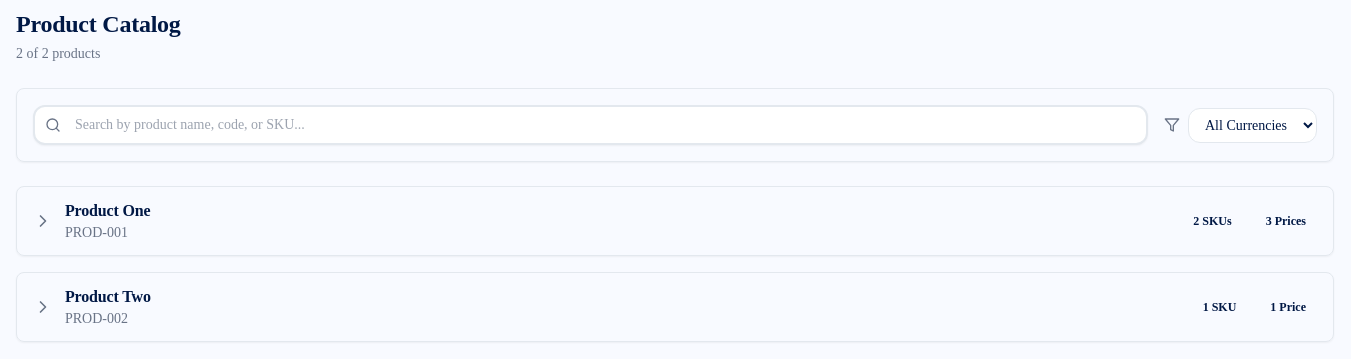
it: ProjectCatalog › should filter products by search query
Expected: the heading "Product One" is shown, [65,199,150,223]
Type "Product One" into the field with placeholder "Search by product name, code, or SKU..." at {"x": 590, "y": 125}, box [33,105,1148,145]
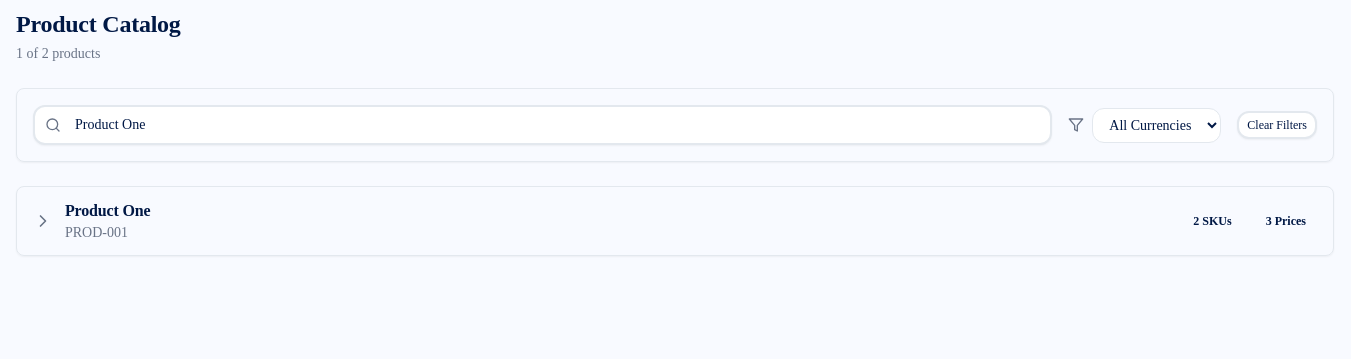
Expected: the heading "Product One" is shown, [65,199,150,223]
Result: the button "Product Two" is gone
